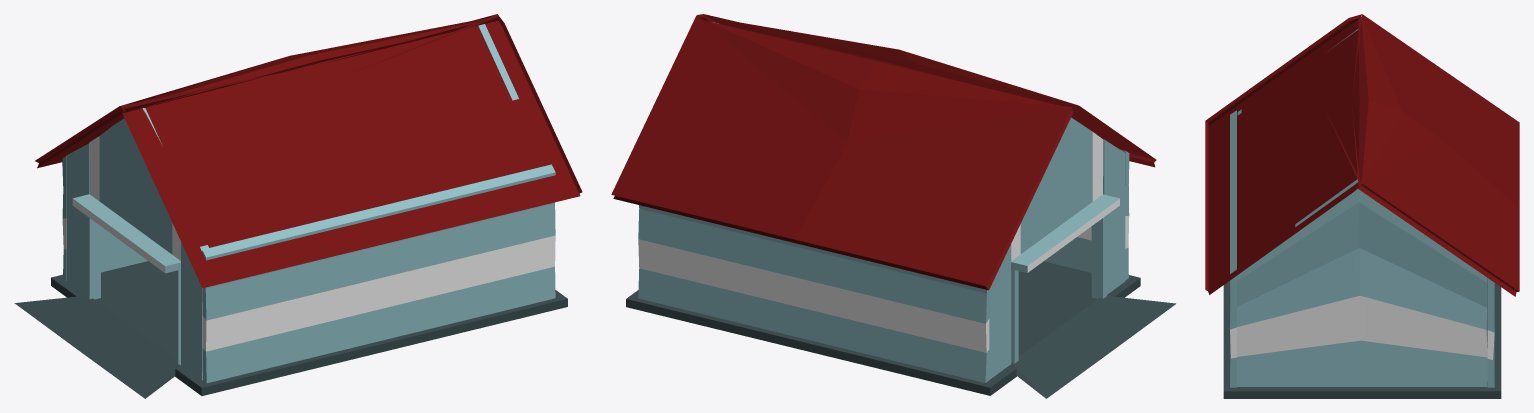
The model's file is garage3.glb.
3 views of the same model, side by side, from view 1: azimuth 30°, elevation 25°; view 2: azimuth 150°, elevation 25°; view 3: azimuth 270°, elevation 25° (orthographic). The views are drawn at different scales.
Visible parts, largest first — view 1: Garage; view 2: Garage; view 3: Garage.
Part boxes in pixels (x1=…): Garage: x1=14, y1=14, x2=582, y2=398; Garage: x1=611, y1=14, x2=1175, y2=398; Garage: x1=1205, y1=14, x2=1519, y2=398.
Size of the model in its own units: 16.76 by 9.12 by 11.88.
